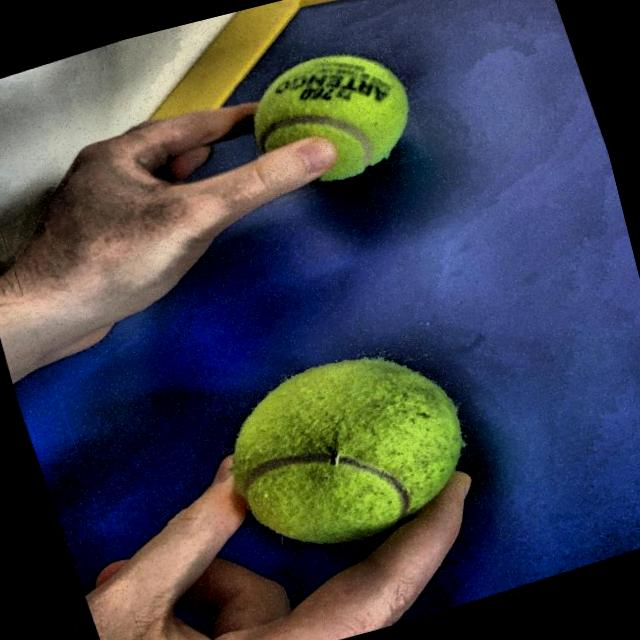tennis-ball: (197, 327, 493, 585), (230, 34, 431, 210)
